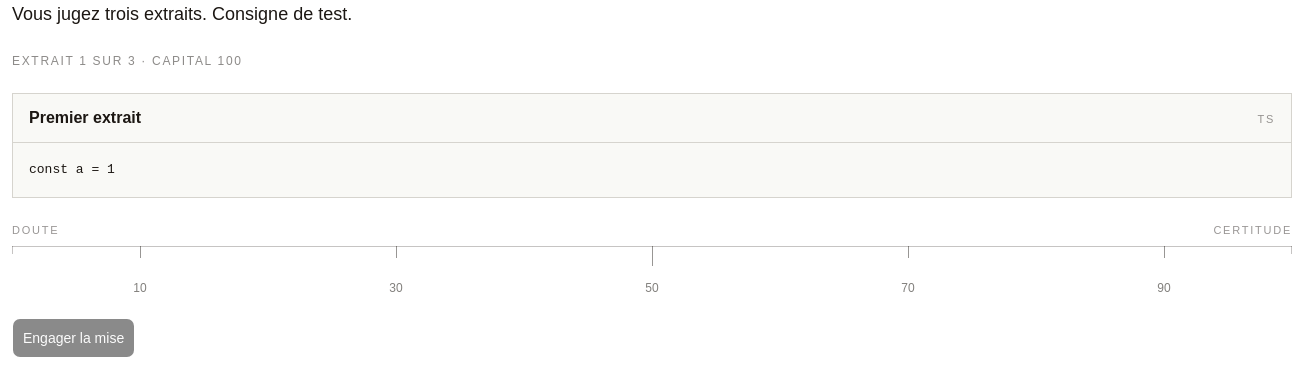
Test case: confidence bet game, rendered › keeps the engagement disabled until a stake is chosen
Expected: the button "Engager la mise" is disabled, [12,318,135,358]
Click the radio button named "mise 90": (1164, 288) [1157,281,1171,295]
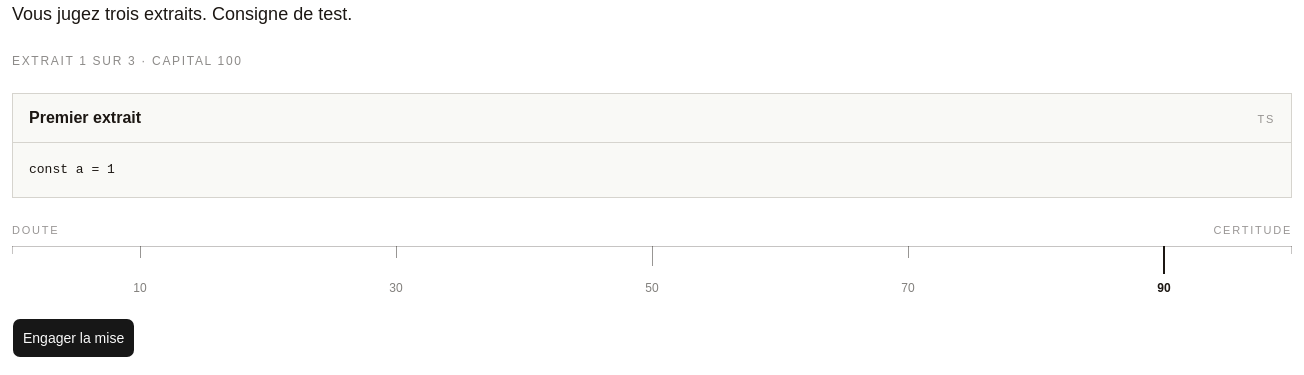
Result: the button "Engager la mise" is enabled at [12,318,135,358]
